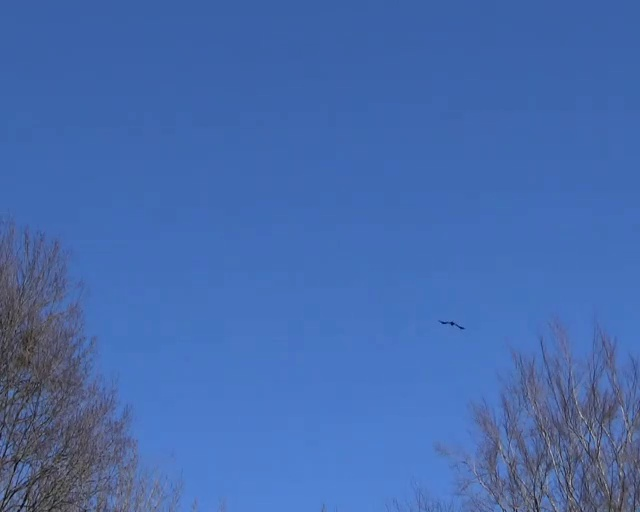BIRD: (438, 319, 465, 330)
